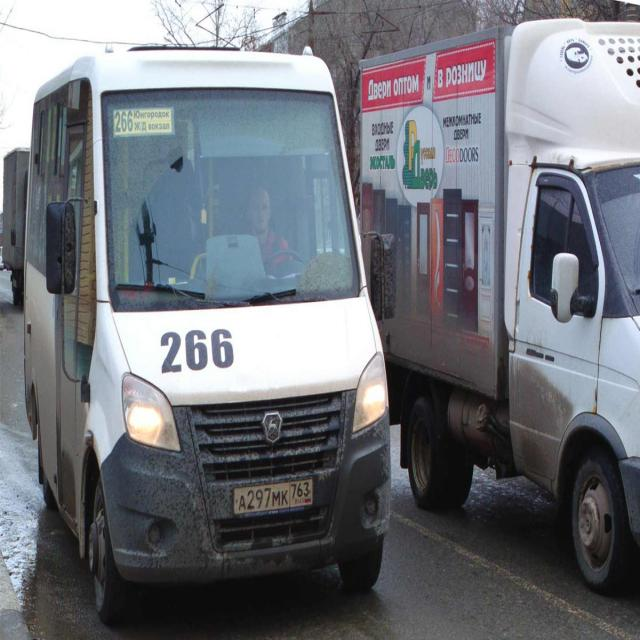number-of-bus: (152, 324, 247, 383), (114, 111, 136, 135)
